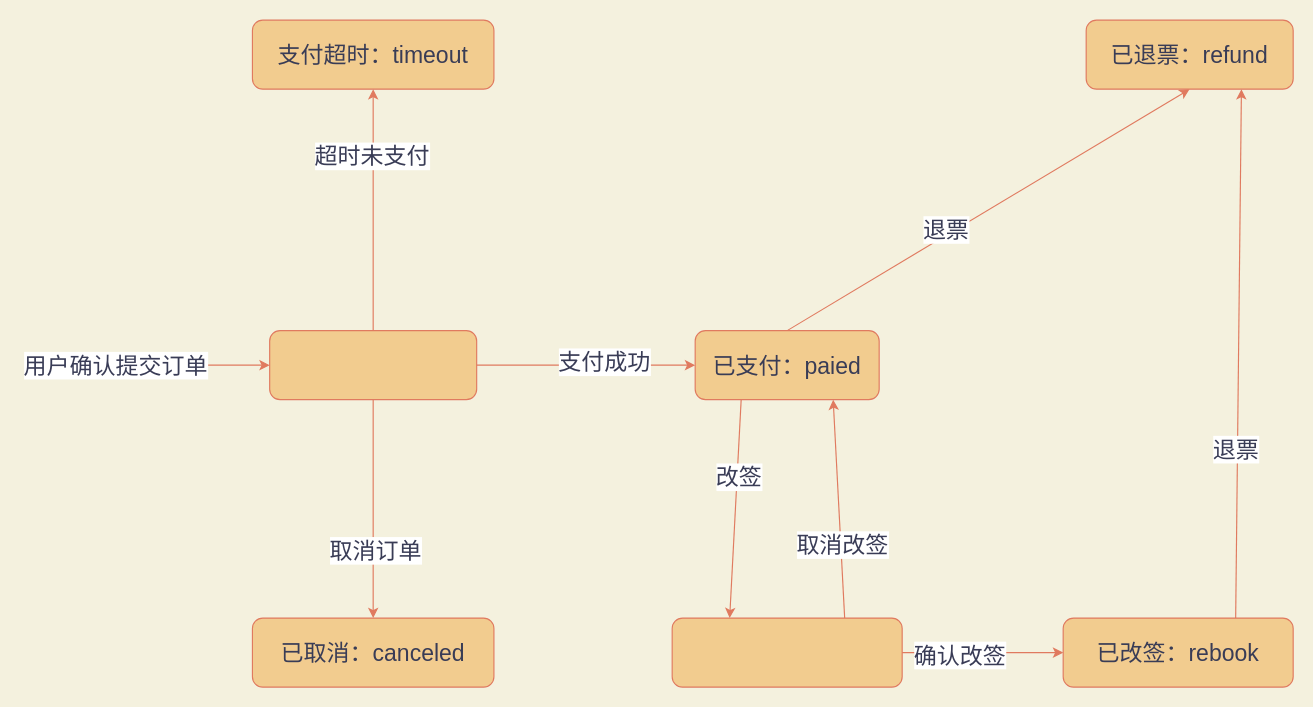
The diagram is 1313 pixels wide and 707 high, and some of its shapes have lost their labels. The centre of each missing label's shape, as x and y in pixels:
已预订：booking: the point at 373,364
待改签：toRebook: the point at 786,652
